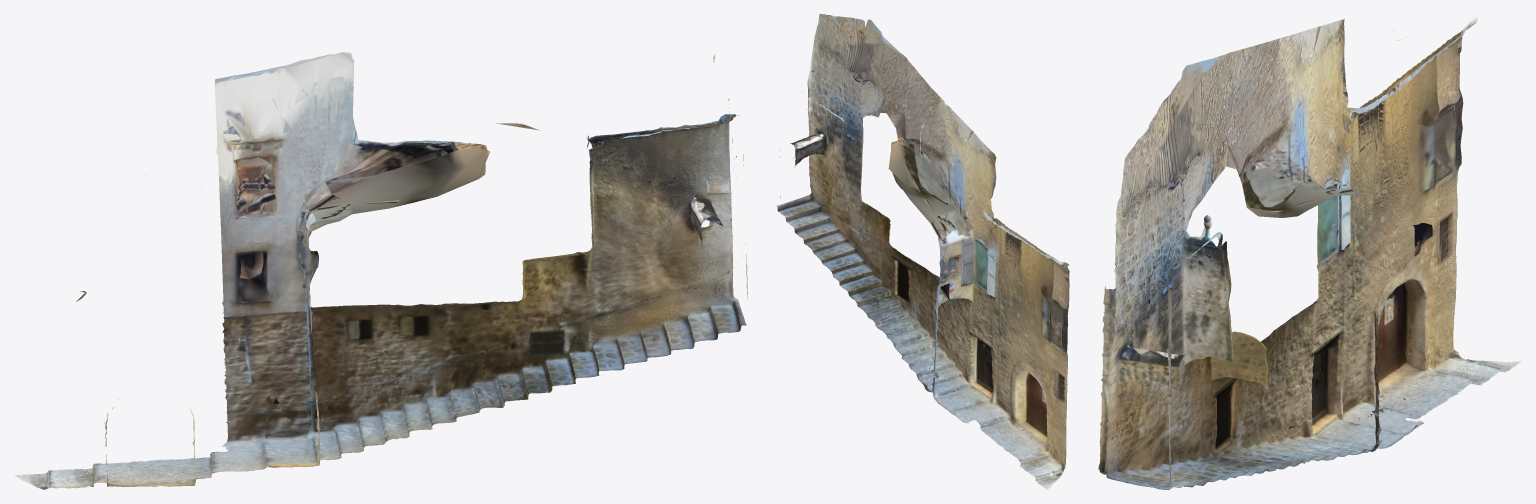
3 renders of one model, left to right at view 1: azimuth 30°, elevation 25°; view 2: azimuth 150°, elevation 25°; view 3: azimuth 270°, elevation 25°, orthographic. The views are drawn at different scales.
Parts seen in each view (by area): view 1: high.007; view 2: high.007; view 3: high.007.
Part boxes in pixels (box(x1,y1,x2,y2)): high.007: box(15, 52, 747, 489); high.007: box(776, 14, 1069, 489); high.007: box(1098, 16, 1520, 489).
Size of the model in its own units: 15.93 by 12.7 by 9.47.
Materials: 1 (1 with a texture image).
